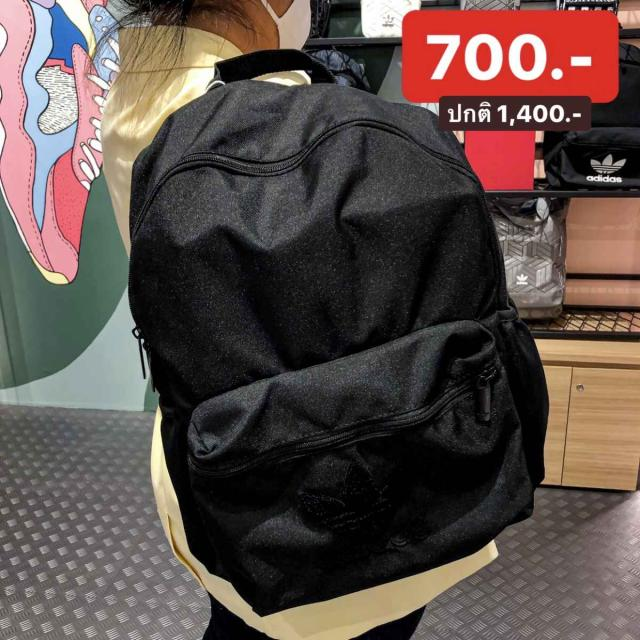handbag: (117, 44, 556, 622)
